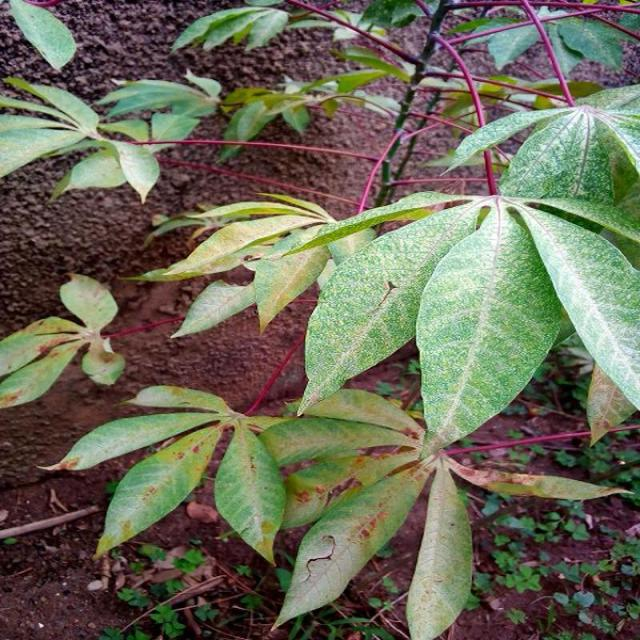cassava leaf: (2, 1, 640, 637), (415, 200, 574, 456)
